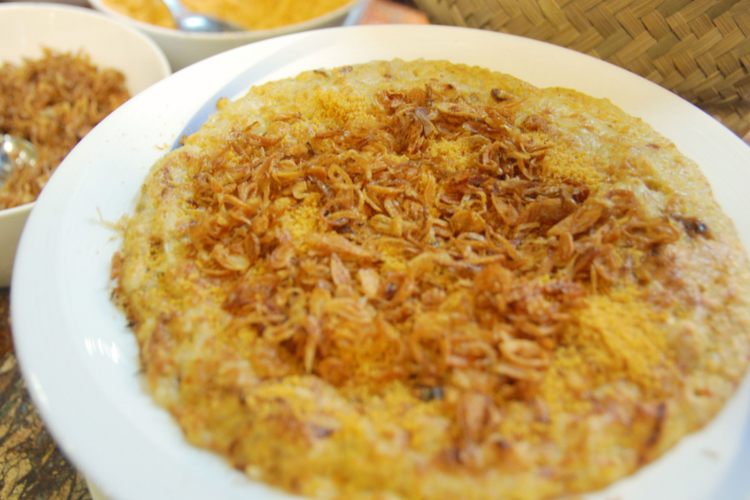kerak_telor: (113, 59, 750, 500)
